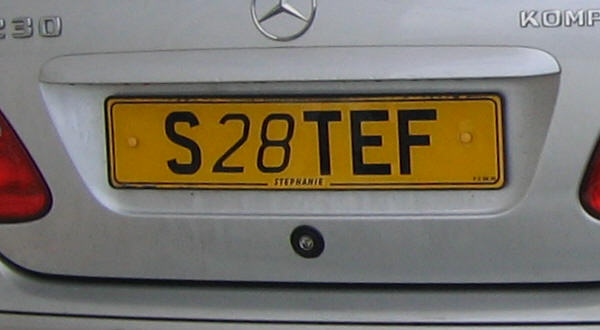license_plate: (107, 96, 503, 189)
